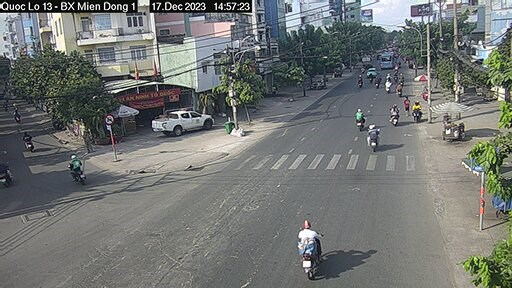car: (153, 106, 225, 136)
motorbike: (295, 216, 333, 280), (362, 119, 384, 155), (353, 105, 369, 132), (410, 103, 426, 126), (387, 99, 401, 124)
